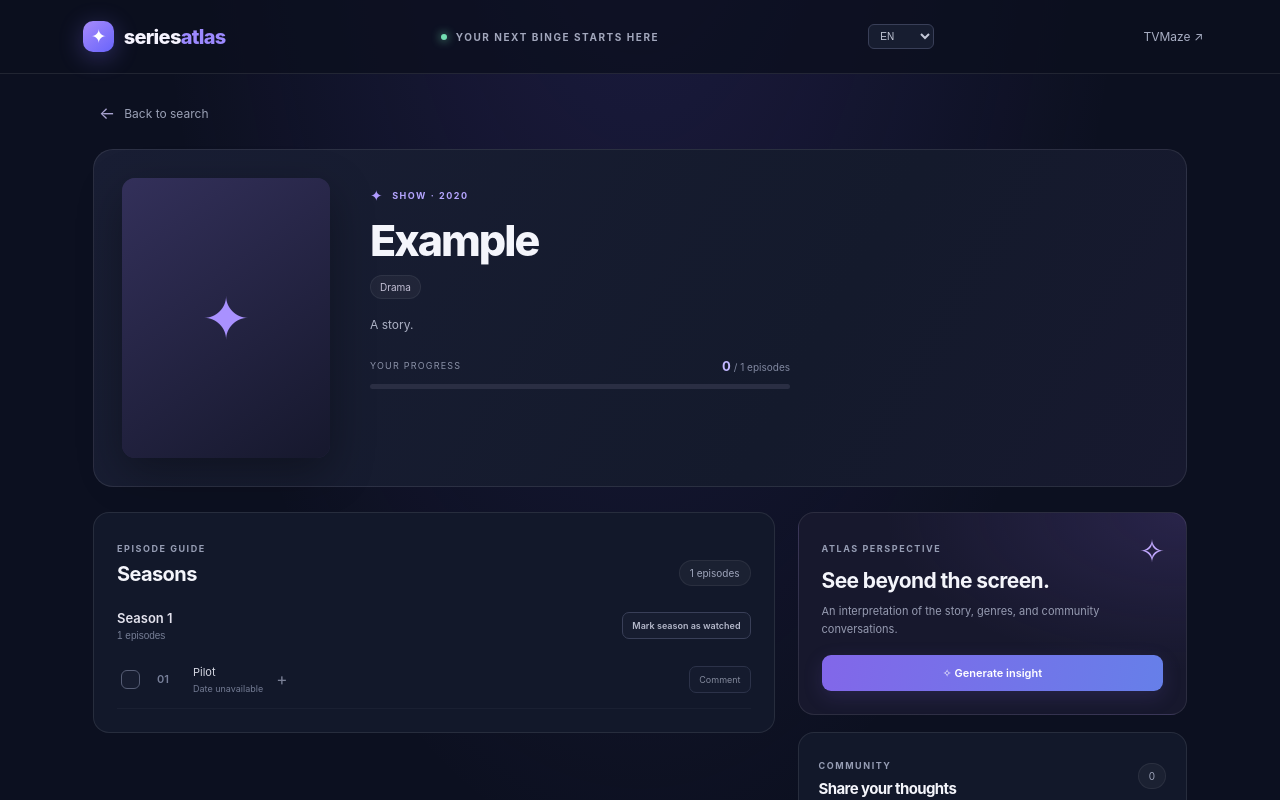
Test: application entrypoint › posts an episode comment and requests an insight for that episode
The image size is (1280, 800).
Click the button with aria-label "Comment Pilot": (720, 679) [689, 666, 751, 692]
(page scrolled)
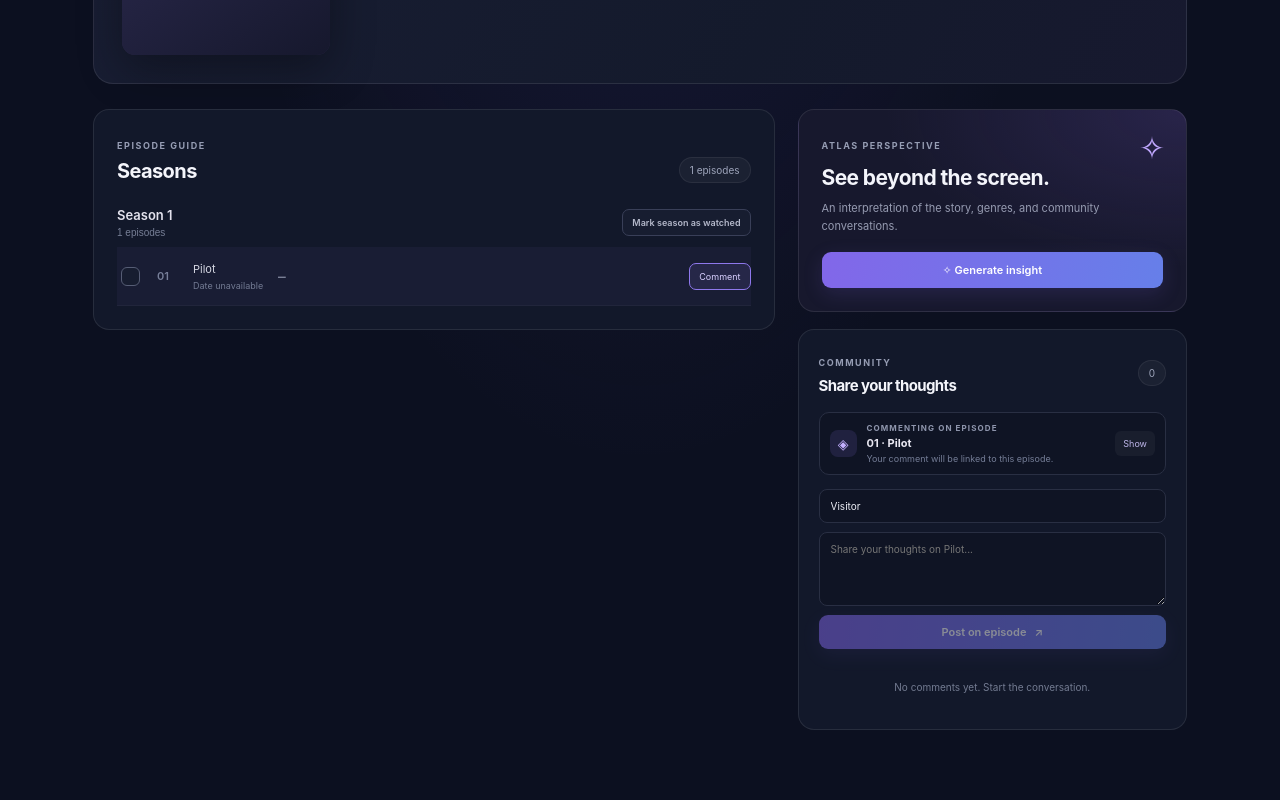
Replace the text in the field named "Your name" with "Rafael": (992, 506) [818, 489, 1166, 523]
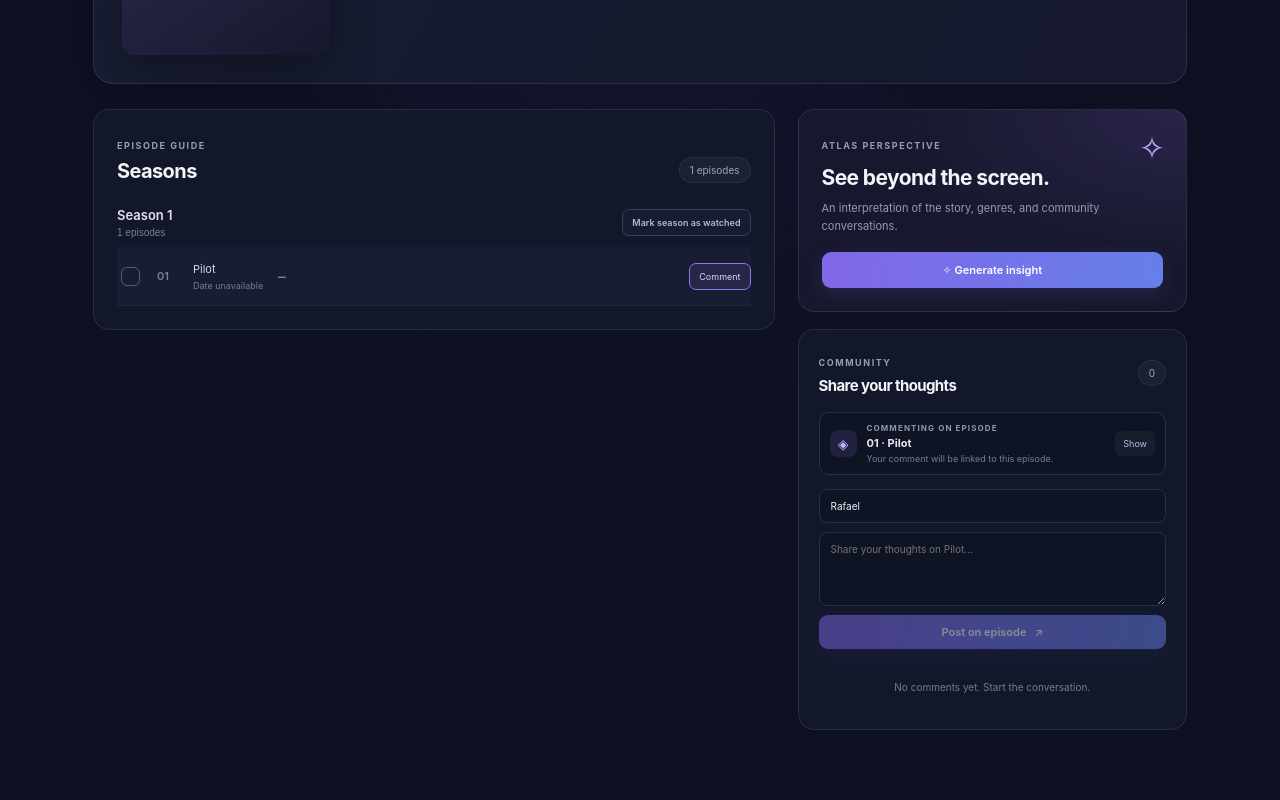
In the text box: (992, 569) [818, 532, 1166, 606], type "Great episode"
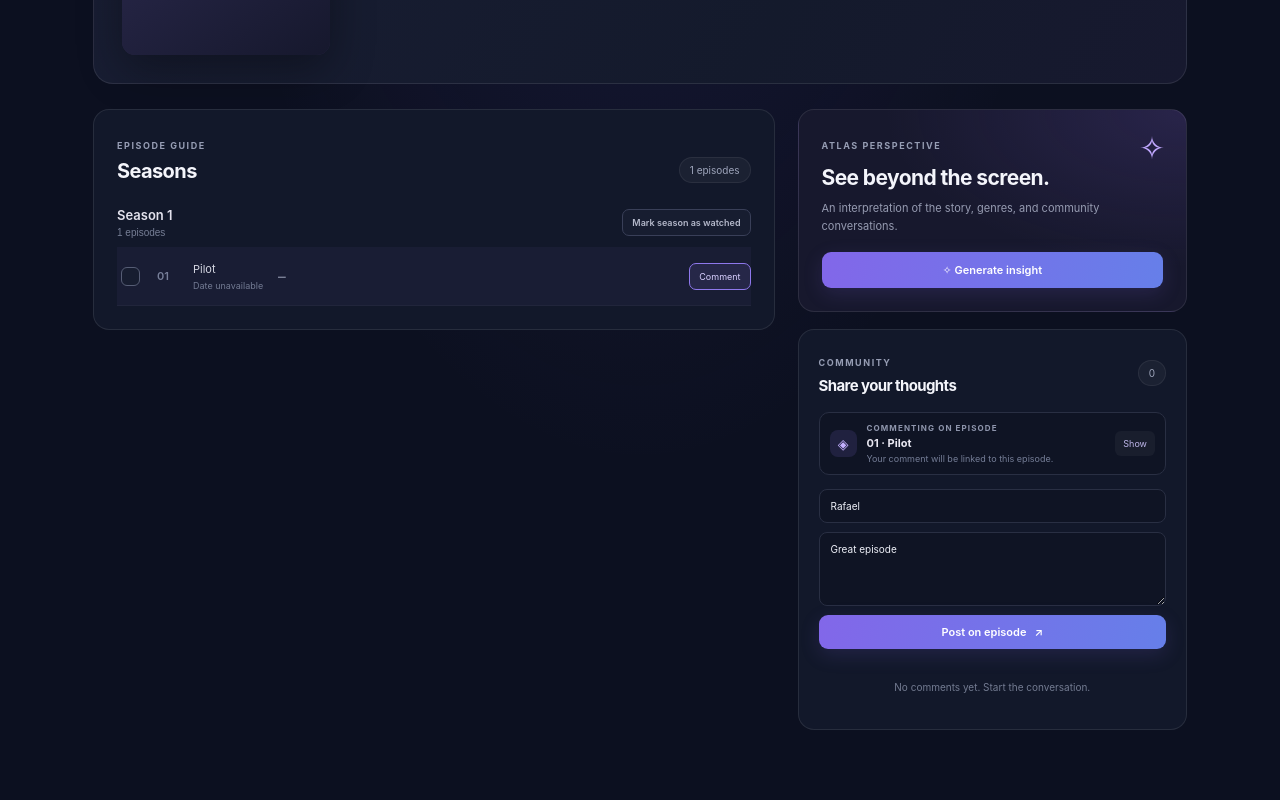
Click the button "Post on episode ↗": (992, 632) [818, 615, 1166, 649]
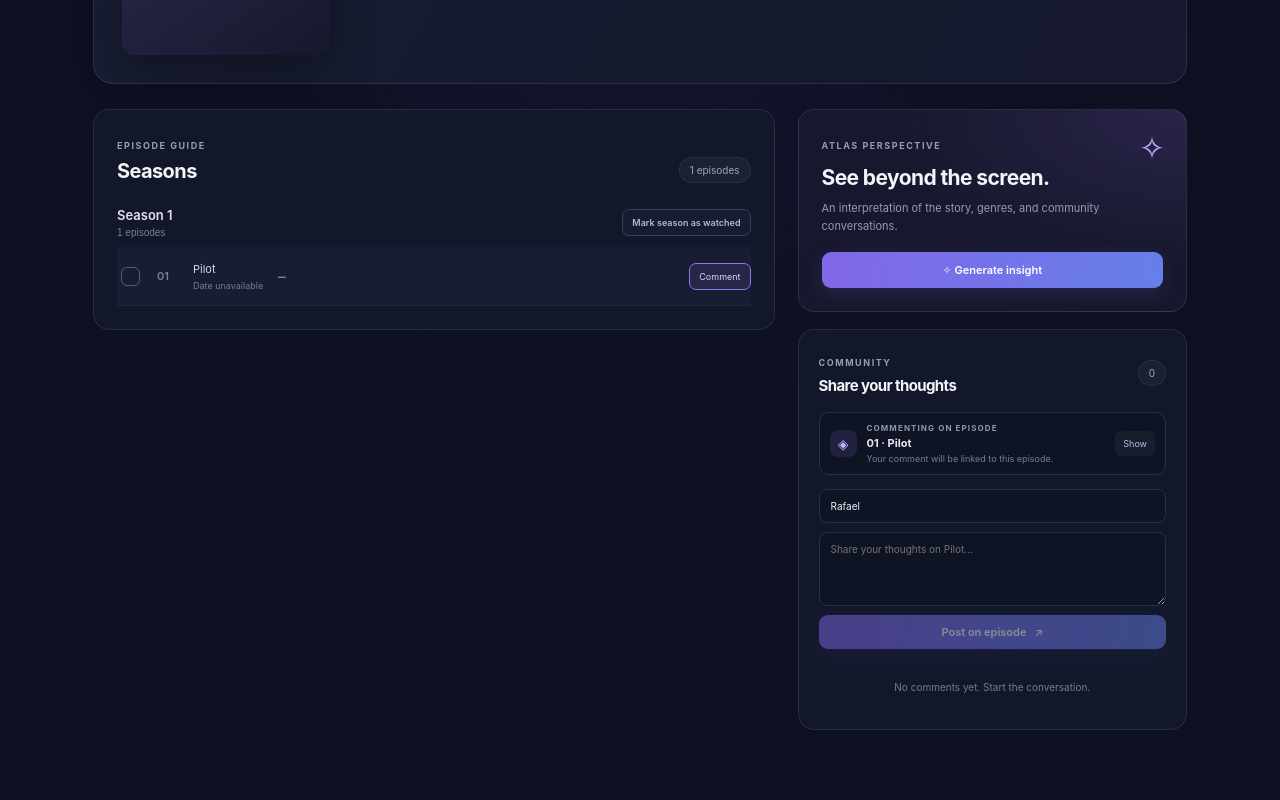
Click the button "✧ Generate insight": (992, 270) [822, 252, 1163, 288]
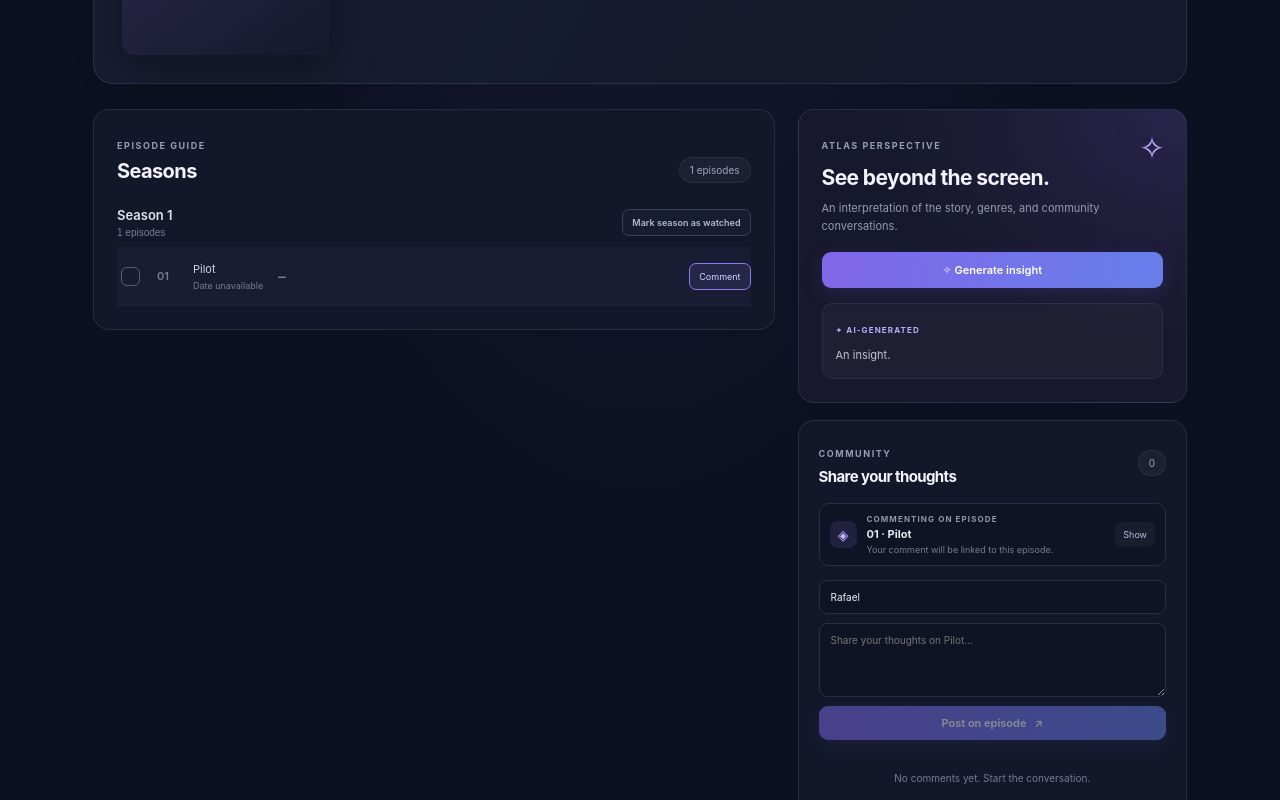
Check: the text "An insight." is shown, box [836, 348, 890, 362]
